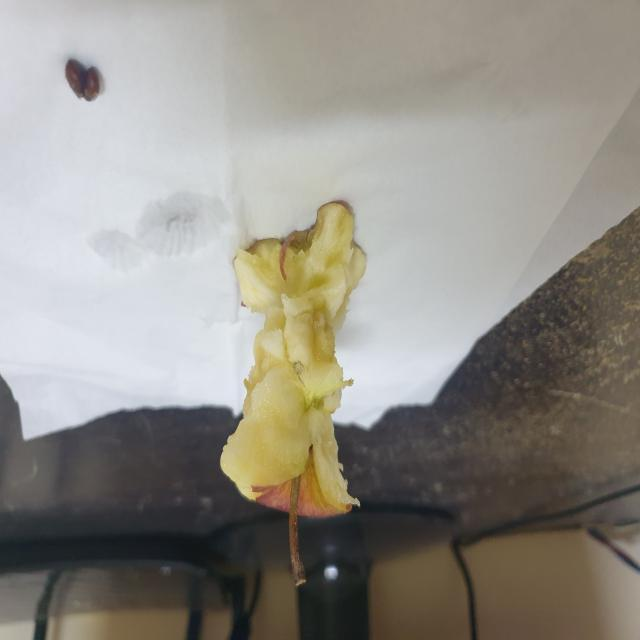apple: (215, 194, 376, 593)
